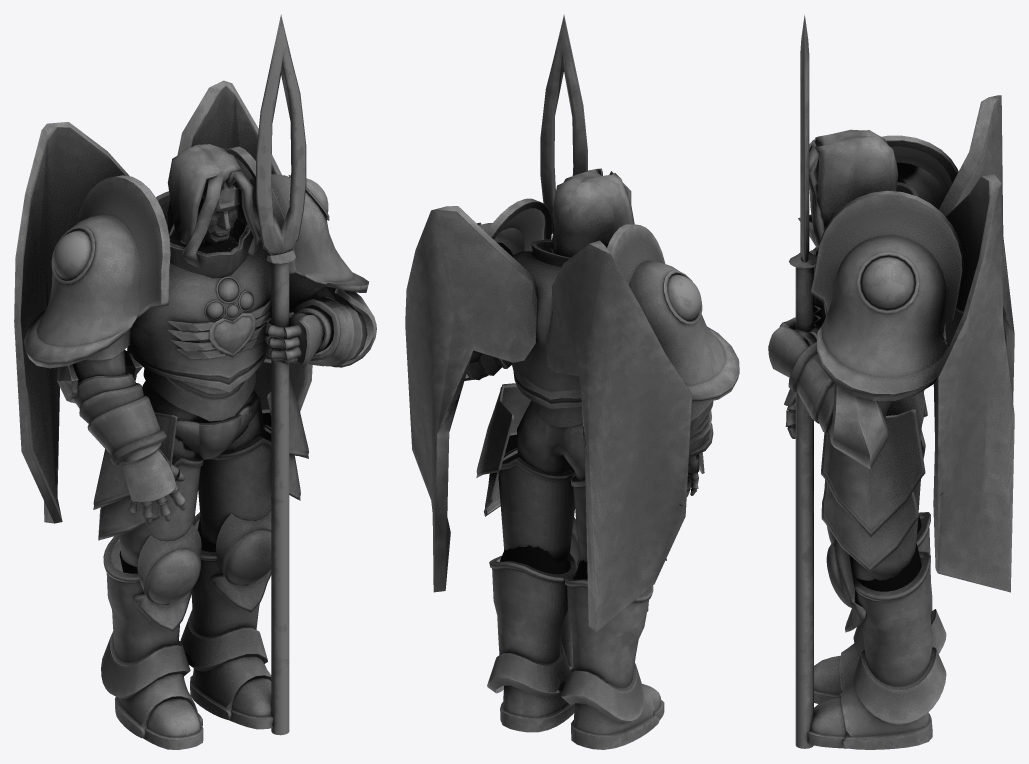
The model's file is sanguinius.glb.
3 renders of one model, left to right at view 1: azimuth 30°, elevation 25°; view 2: azimuth 150°, elevation 25°; view 3: azimuth 270°, elevation 25°, orthographic. The views are drawn at different scales.
Parts seen in each view (by area): view 1: sanguinius_statue; view 2: sanguinius_statue; view 3: sanguinius_statue.
Part boxes in pixels (x1,y1,x2,y2): sanguinius_statue: [14, 14, 376, 749]; sanguinius_statue: [405, 14, 739, 749]; sanguinius_statue: [768, 15, 1014, 749].
Size of the model in its own units: 6.22 by 12.49 by 3.82.
Materials: 1 (1 with a texture image).
